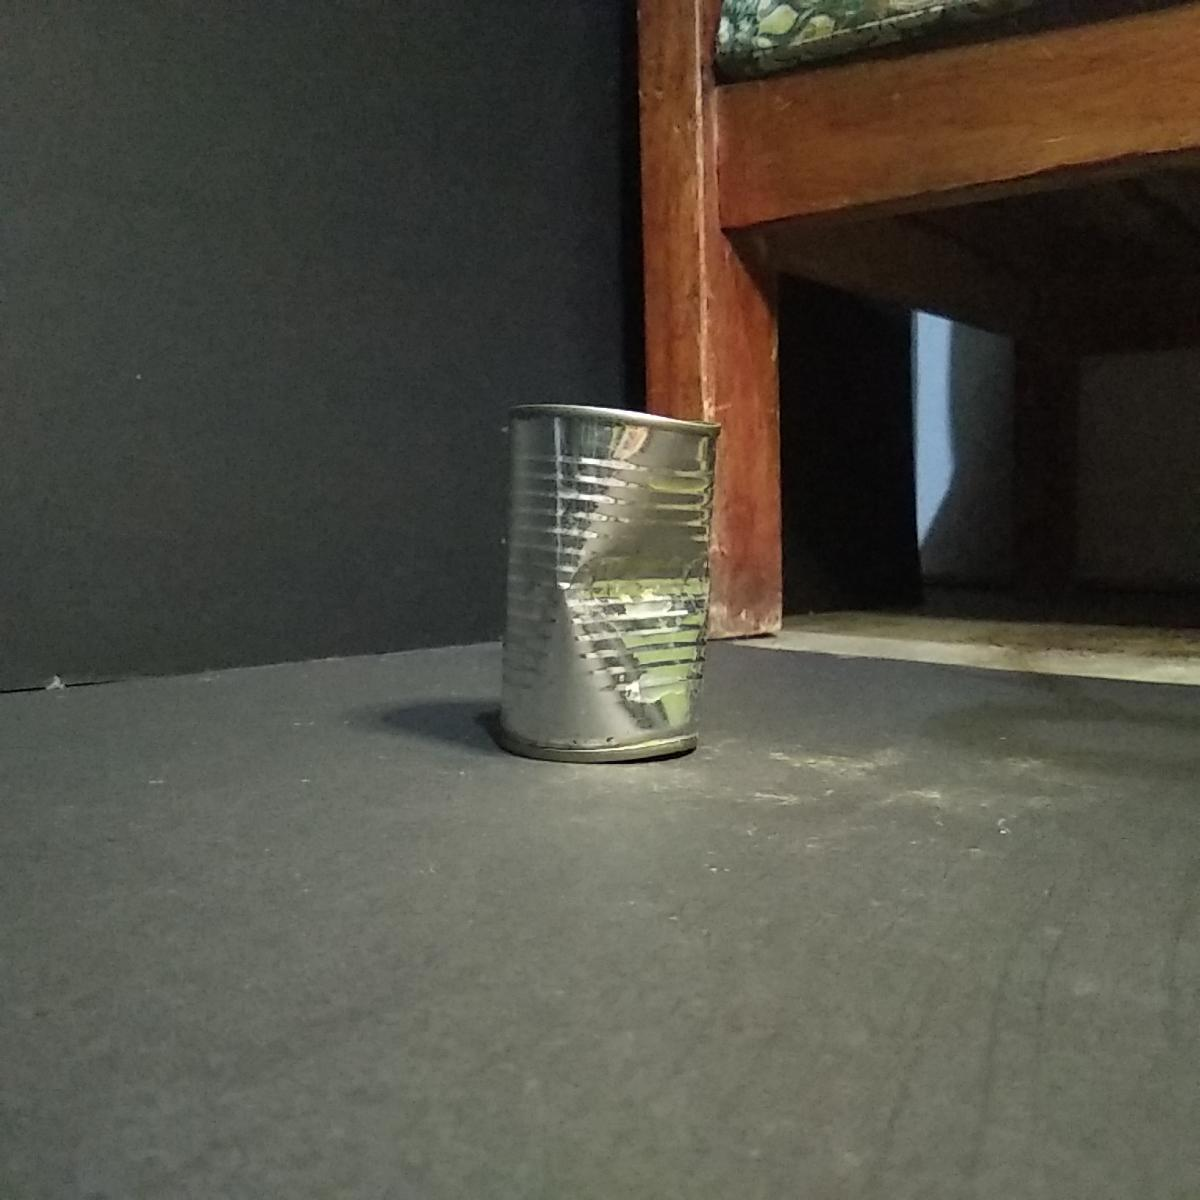Dented: (492, 386, 724, 776)
